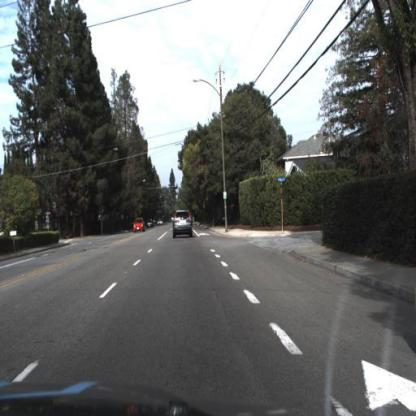car: (172, 209, 193, 240), (133, 216, 147, 237)
